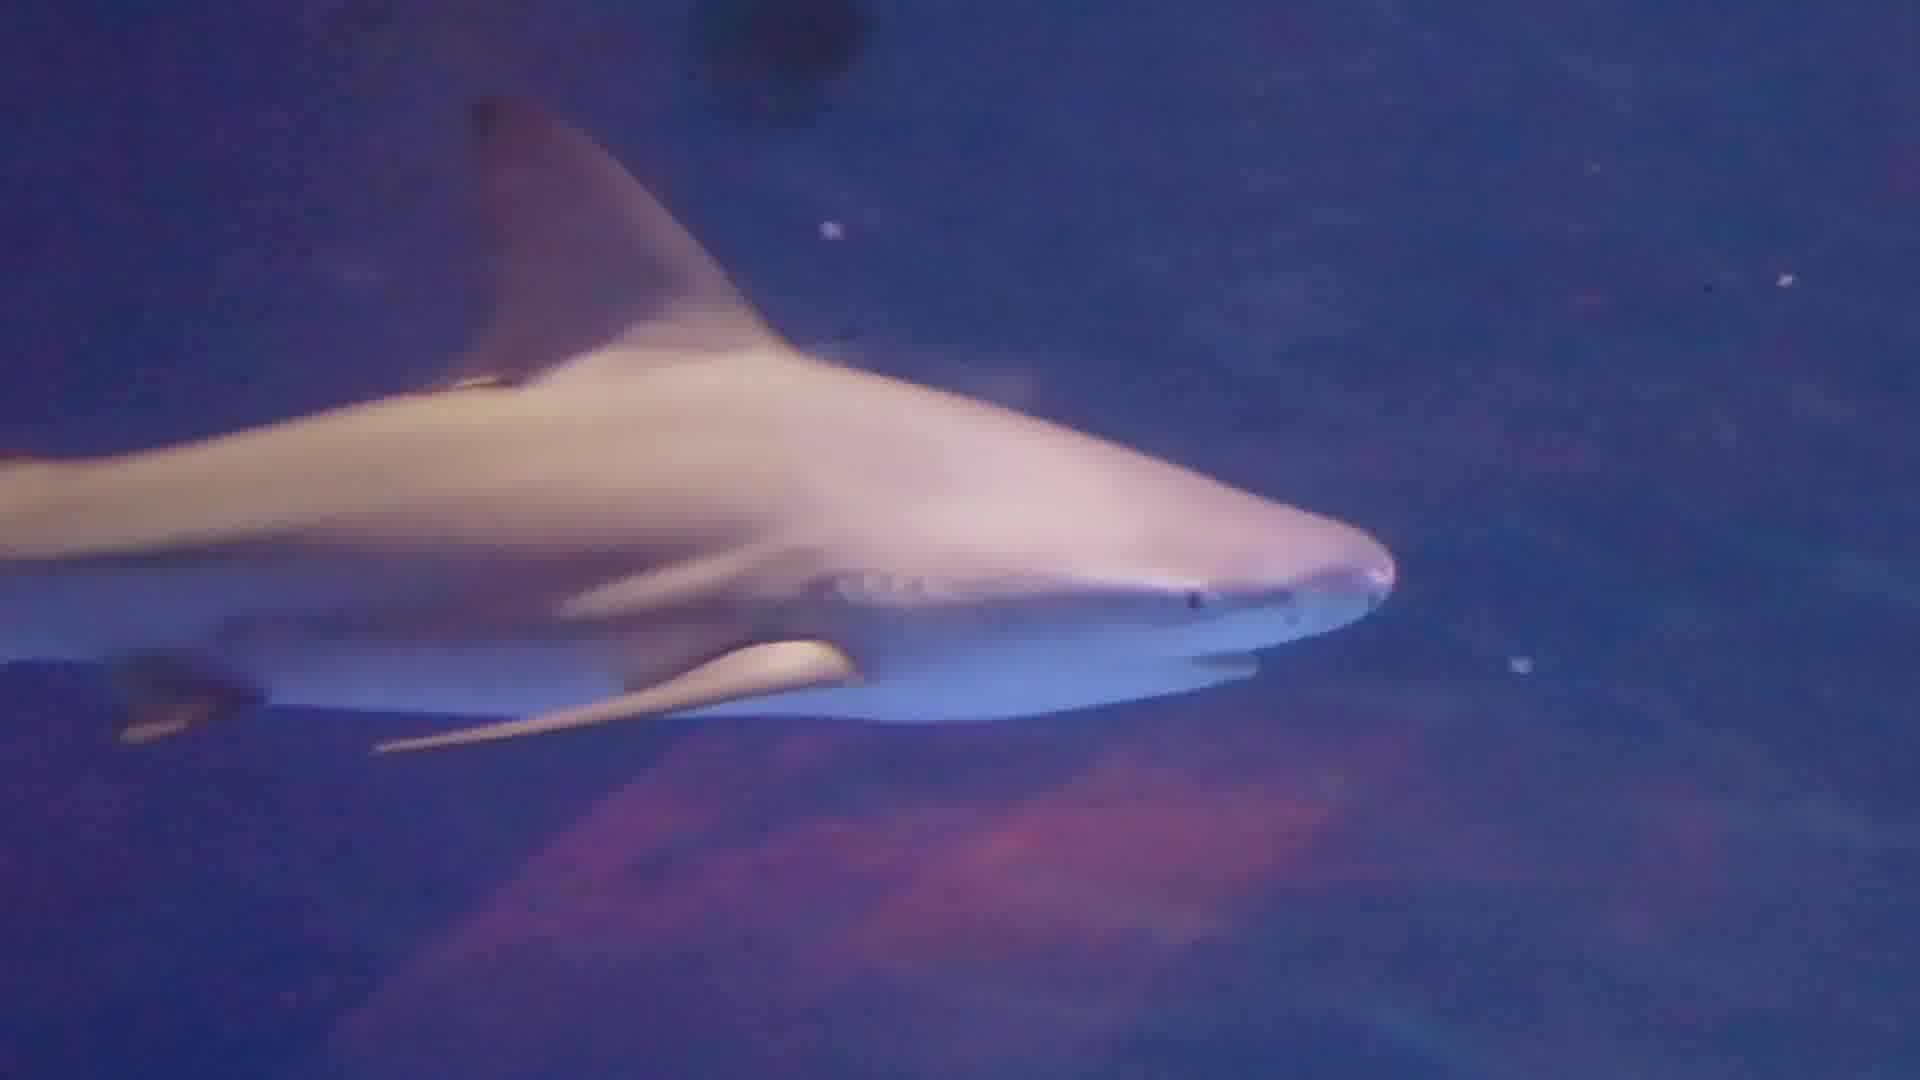Carcharhinus leucas: (1, 113, 1414, 827)
